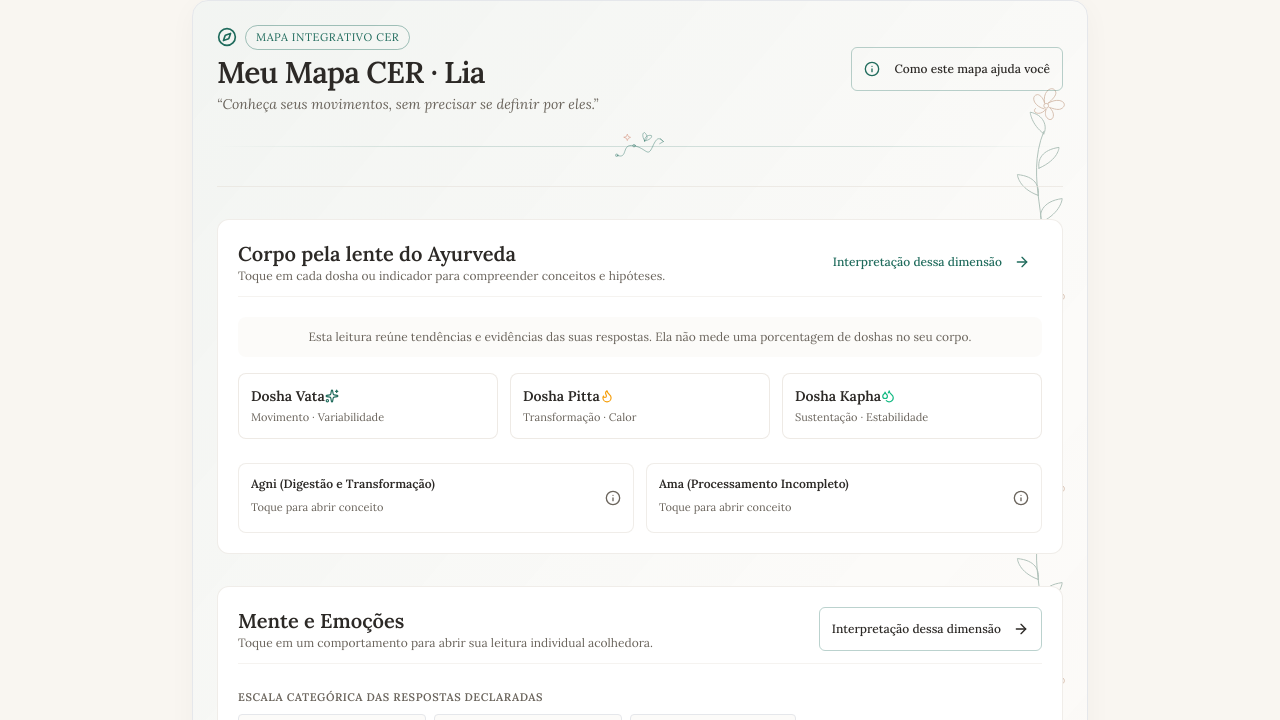
Mapa CER: percurso de leitura e teclado › explica o mapa e devolve o foco ao fechar, sem abrir dois diálogos
This screenshot has width=1280, height=720.
Click the button with aria-label "Abrir explicação: Como este mapa ajuda você". click: (957,69)
box: [852,47,1063,91]
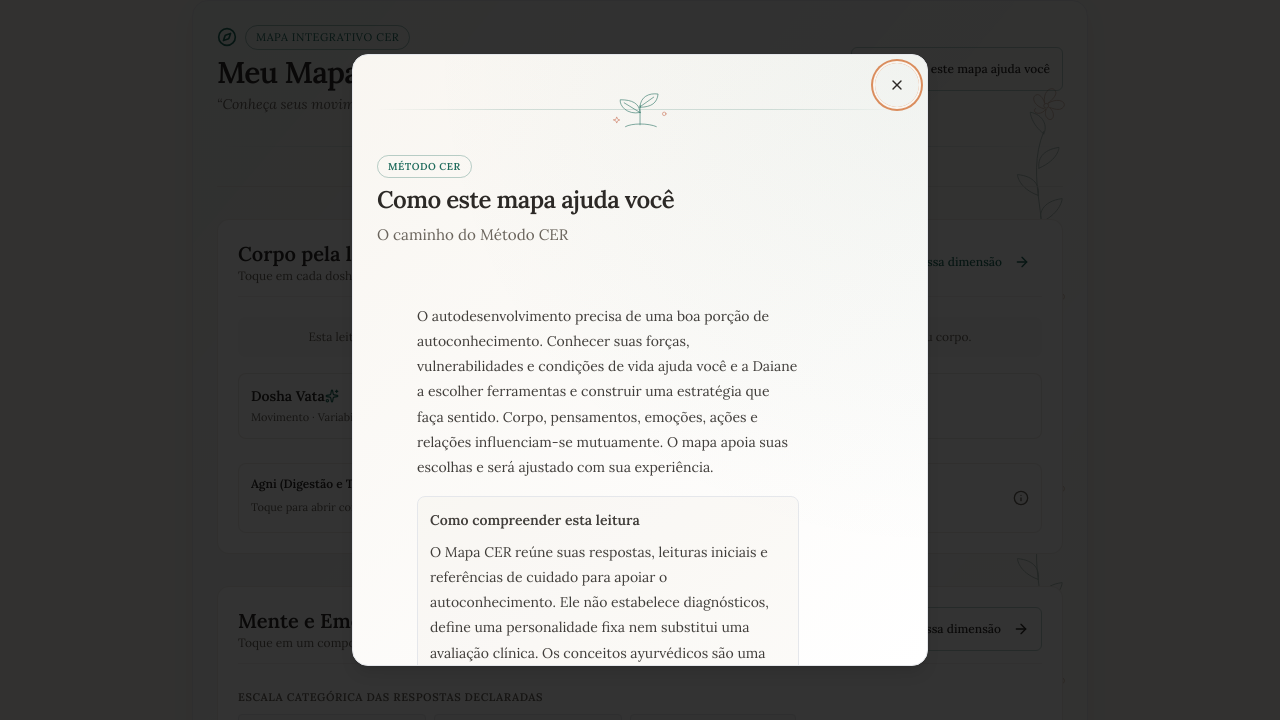
Result: the heading "Como este mapa ajuda você" is shown at [377,184,674,215]
Result: the dialog shows "autoconhecimento" at [417,307,797,476]
Result: the number of dialogs is 1 at [352,54,928,666]
Press Escape
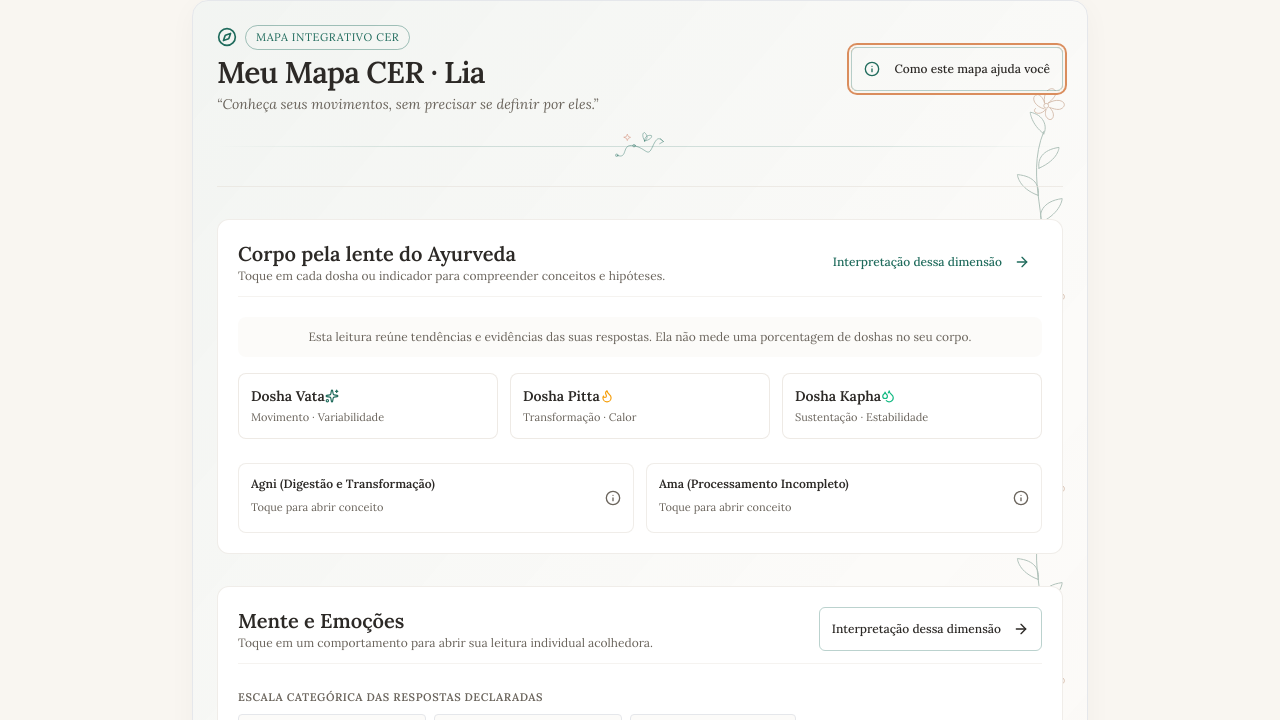
Result: the dialog is gone
